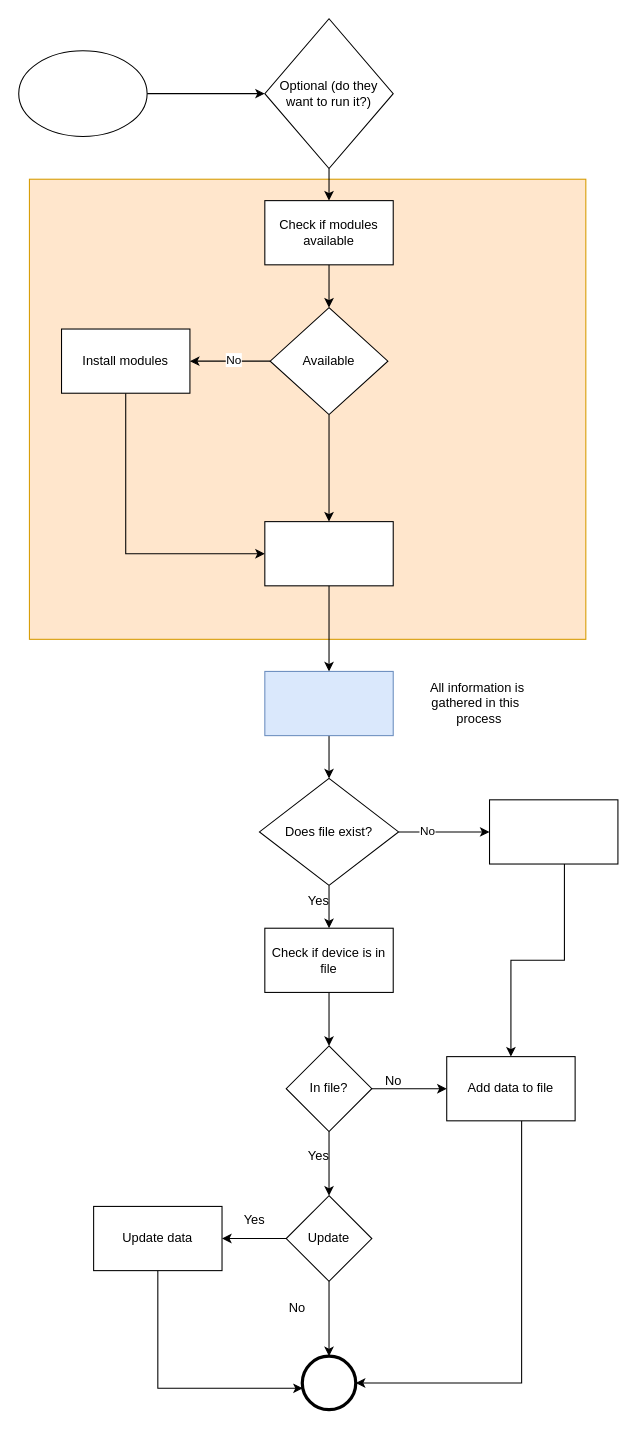
This 637x1451 diagram has some shape labels left out. Each missing label, with the centre of its shape:
Create file: [553,831]
End: [328,1382]
get computer info (see page 2): [328,703]
import modules: [328,553]
START: [82,93]
